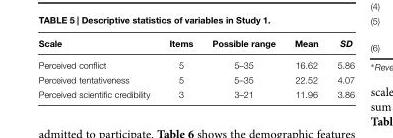table: (37, 37, 354, 98)
table column: (37, 37, 158, 98), (201, 37, 284, 98), (158, 37, 201, 98), (284, 37, 327, 98), (327, 37, 354, 98)
table column header: (37, 37, 354, 53)
table row: (37, 53, 354, 71), (37, 37, 354, 53), (37, 71, 354, 86), (37, 86, 354, 98)
